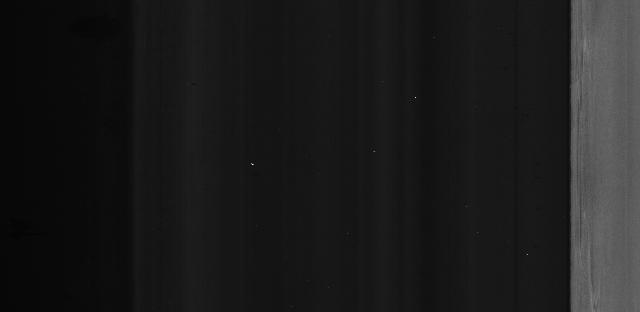silk_spot: (575, 16, 619, 312)
